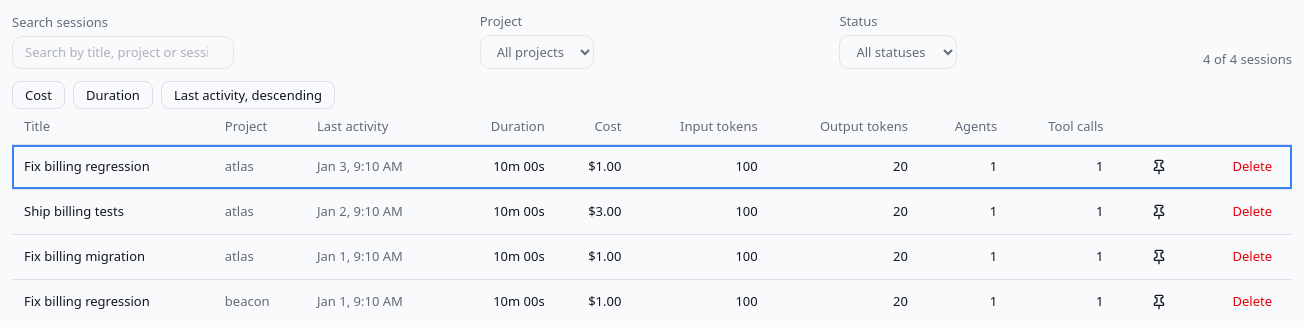
it: SessionFilters › shows a no-matches state and clears every active filter (E3-S3-AC3)
Select "atlas" in the dropdown labelled "Project". click: [537, 52]
box: x1=480 y1=35 x2=594 y2=69
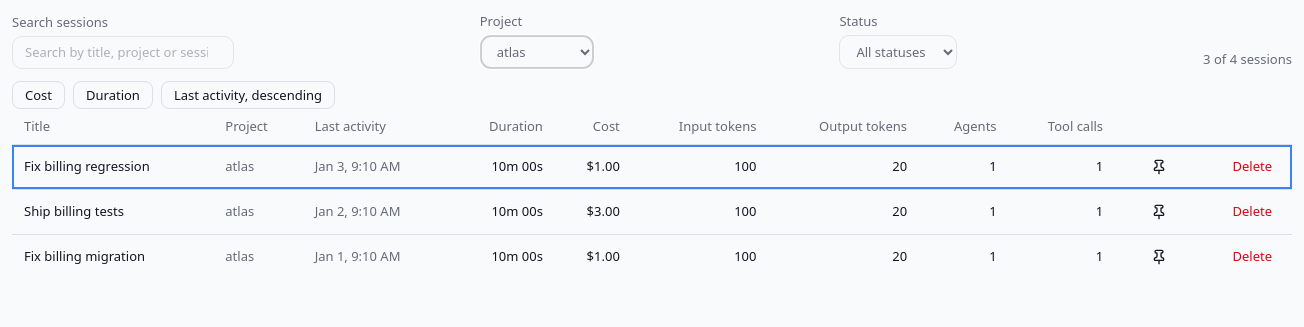
Select "Completed" in the dropdown labelled "Status". click: [898, 52]
box: x1=839 y1=35 x2=957 y2=69
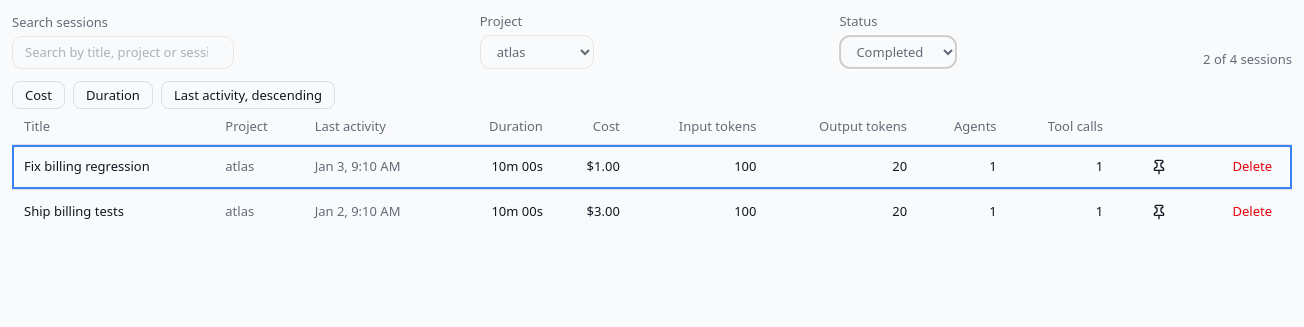
Type "not-present" into the search field labelled "Search sessions". click: [123, 52]
box: x1=12 y1=36 x2=234 y2=69
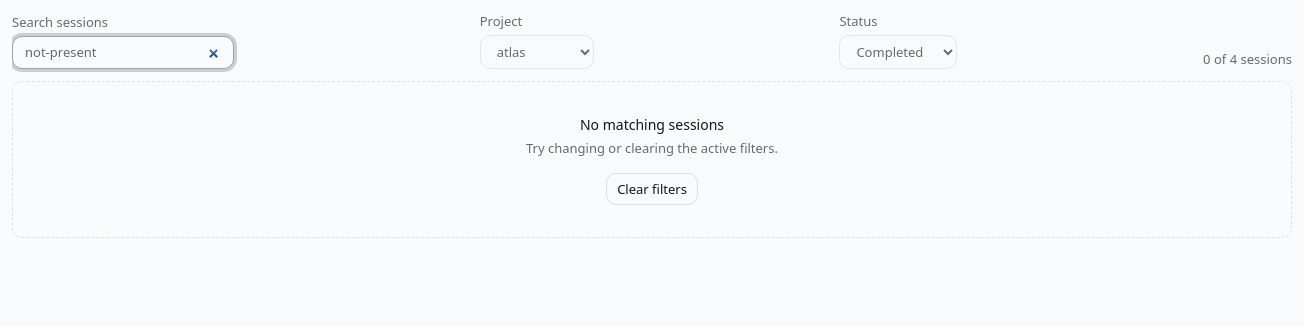
Expected: the heading "No matching sessions" is shown, x1=580 y1=115 x2=724 y2=134
Click the button "Clear filters". click: [652, 189]
box: x1=606 y1=173 x2=698 y2=205
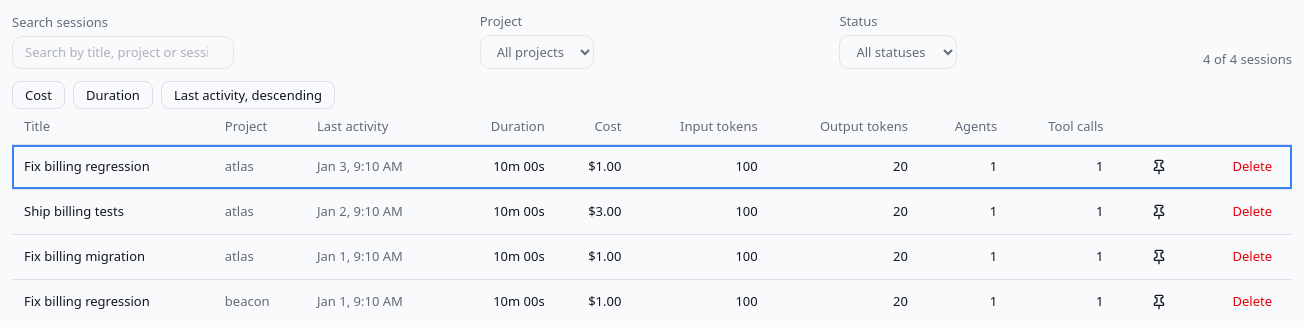
Expected: the search field labelled "Search sessions" is empty, x1=12 y1=36 x2=234 y2=69
